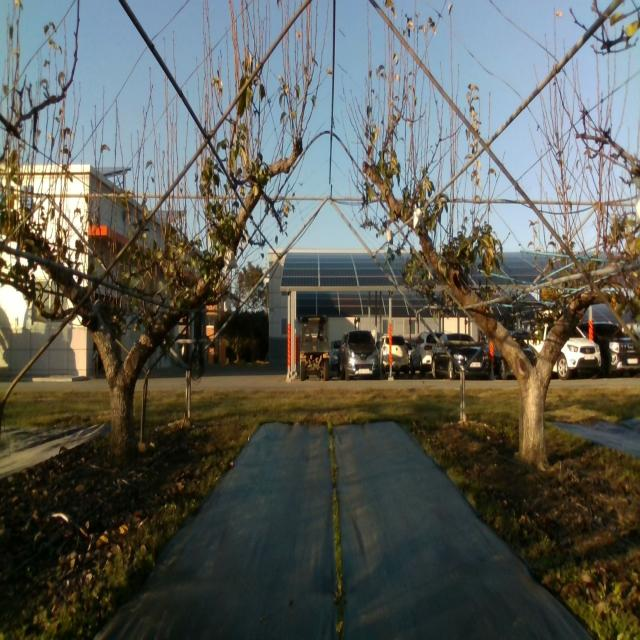pearbags: (224, 246, 239, 272), (413, 204, 423, 229)
